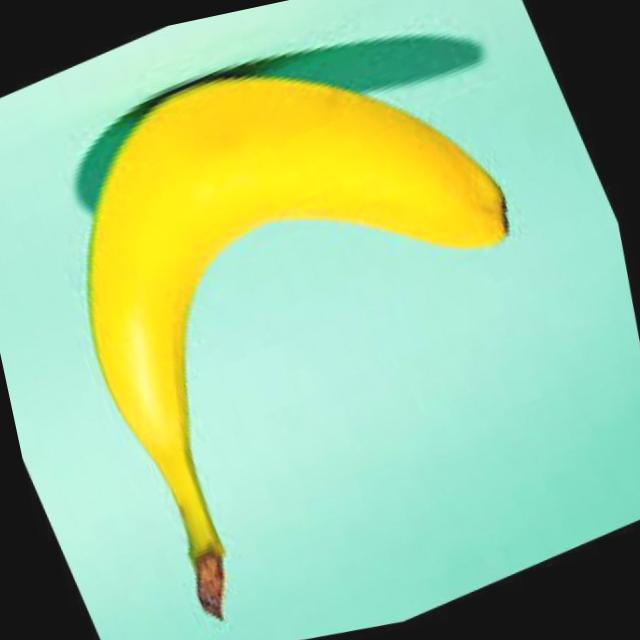Banana: (44, 24, 582, 638)
